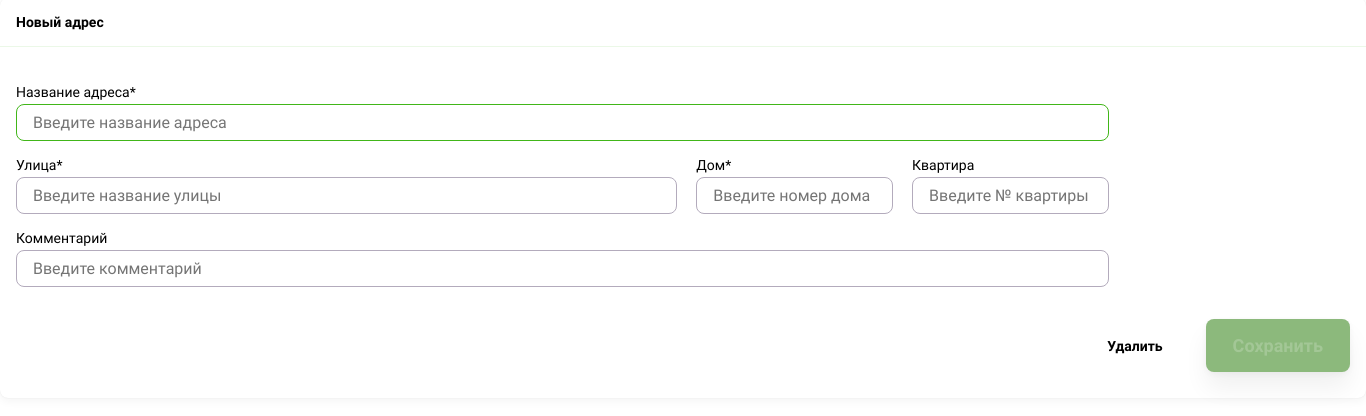
Test: ProfileAddressForm › both add and edit modes › submit button disabled when name field is empty
In the field labelled "Название адреса*": point(562, 122) x1=16 y1=104 x2=1109 y2=141, type "New Address"
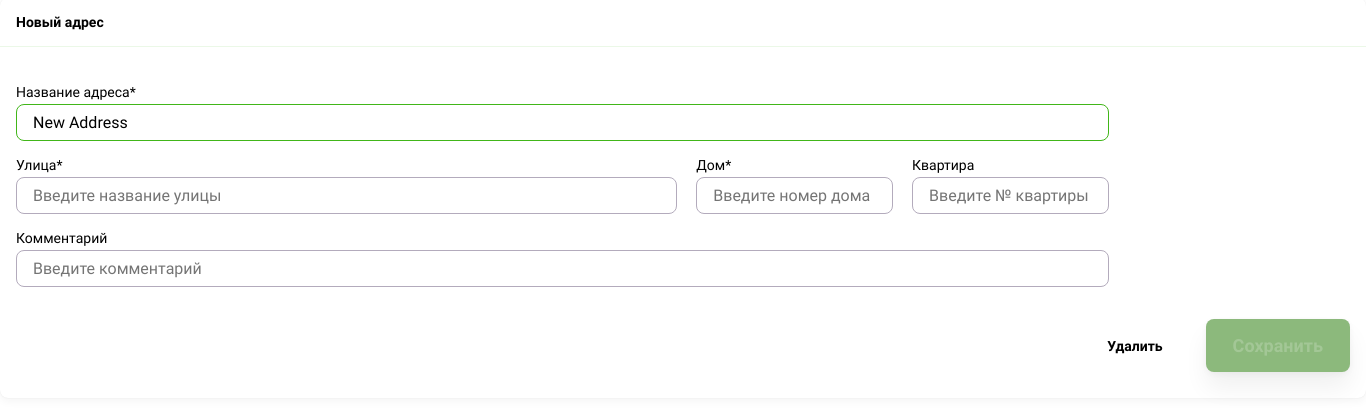
In the field labelled "Улица*": point(347, 196) x1=16 y1=177 x2=677 y2=214, type "Baker street"
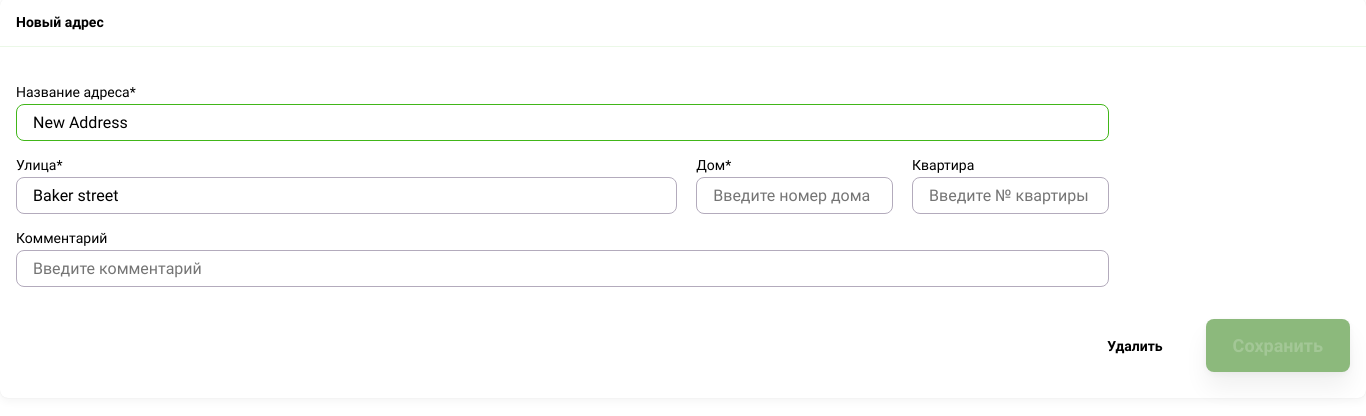
In the field labelled "Дом*": point(795, 196) x1=696 y1=177 x2=893 y2=214, type "1"
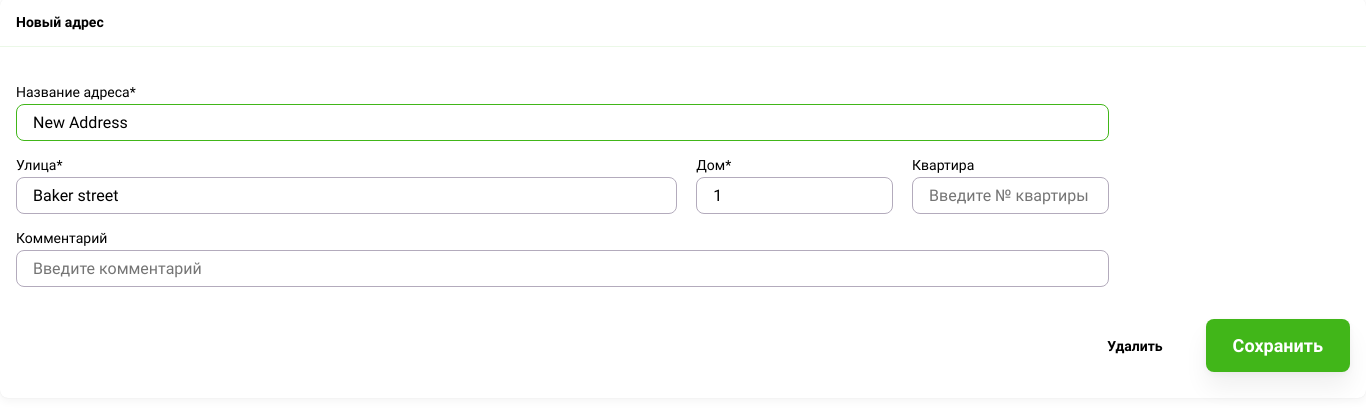
Clear the field labelled "Название адреса*": point(562, 122) x1=16 y1=104 x2=1109 y2=141
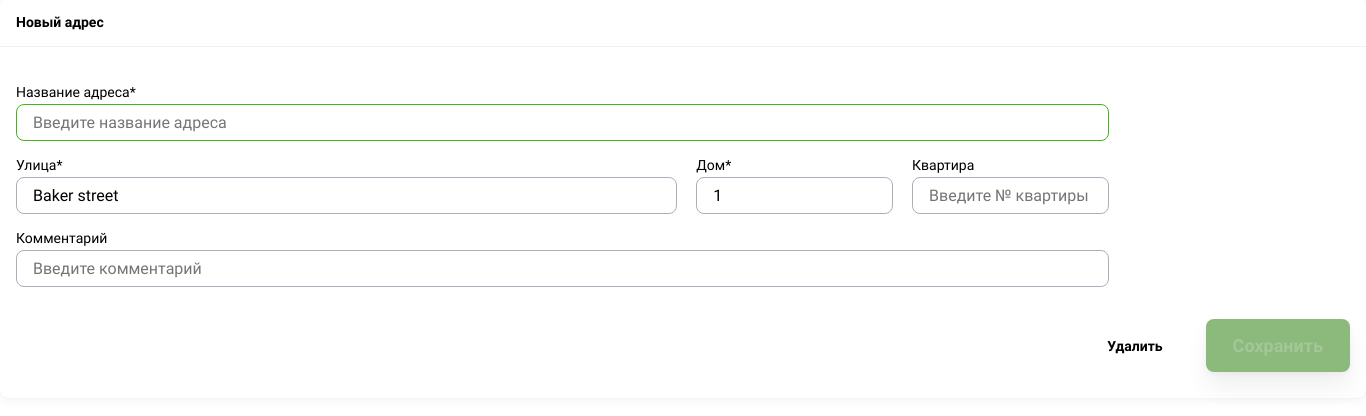
Expected: the submit button is disabled, x1=1206 y1=319 x2=1350 y2=372
